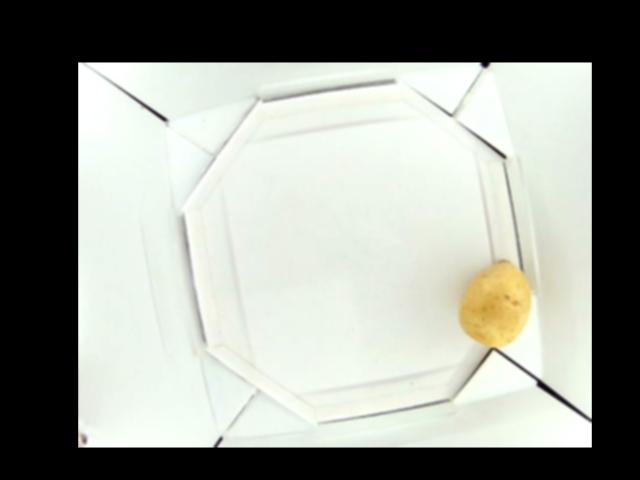Potato: (462, 259, 530, 343)
